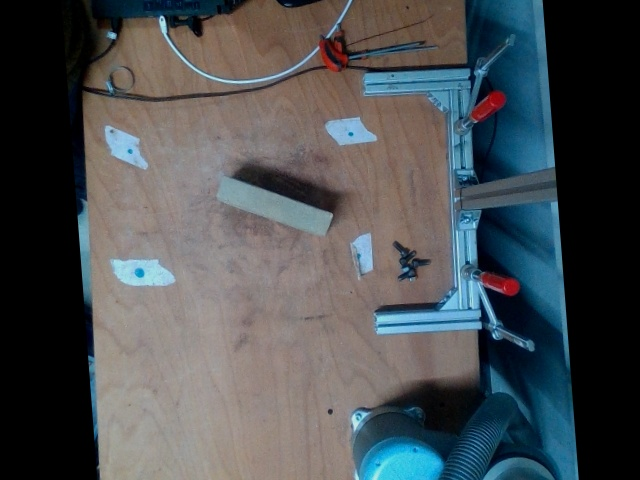brick-side: (218, 177, 329, 236)
